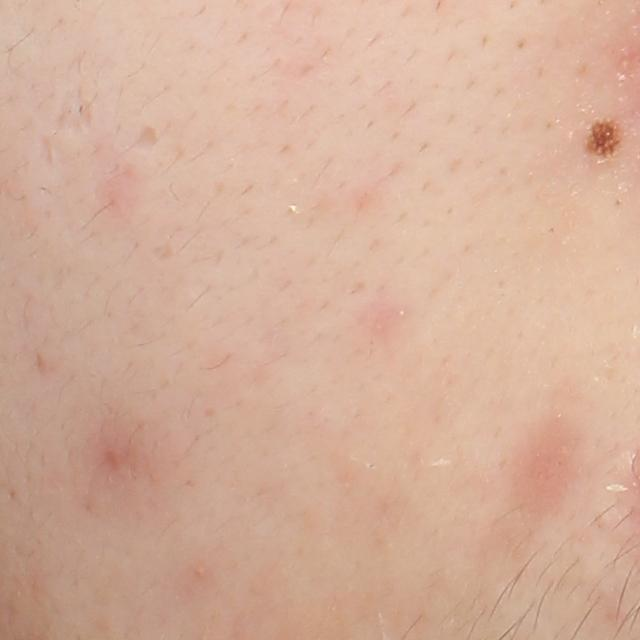atrophic_scar: (131, 122, 162, 153), (37, 132, 57, 175)
nevus: (581, 114, 627, 162)
